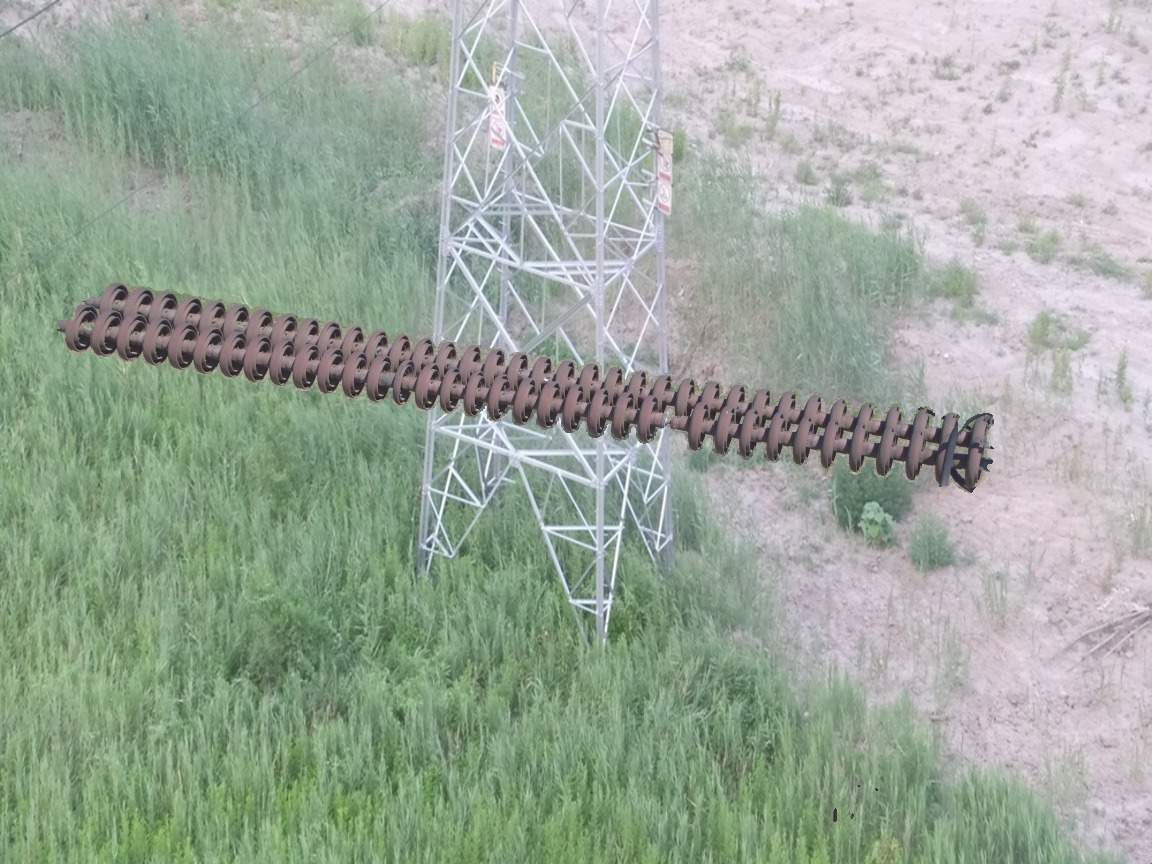defect: (627, 393, 712, 452)
